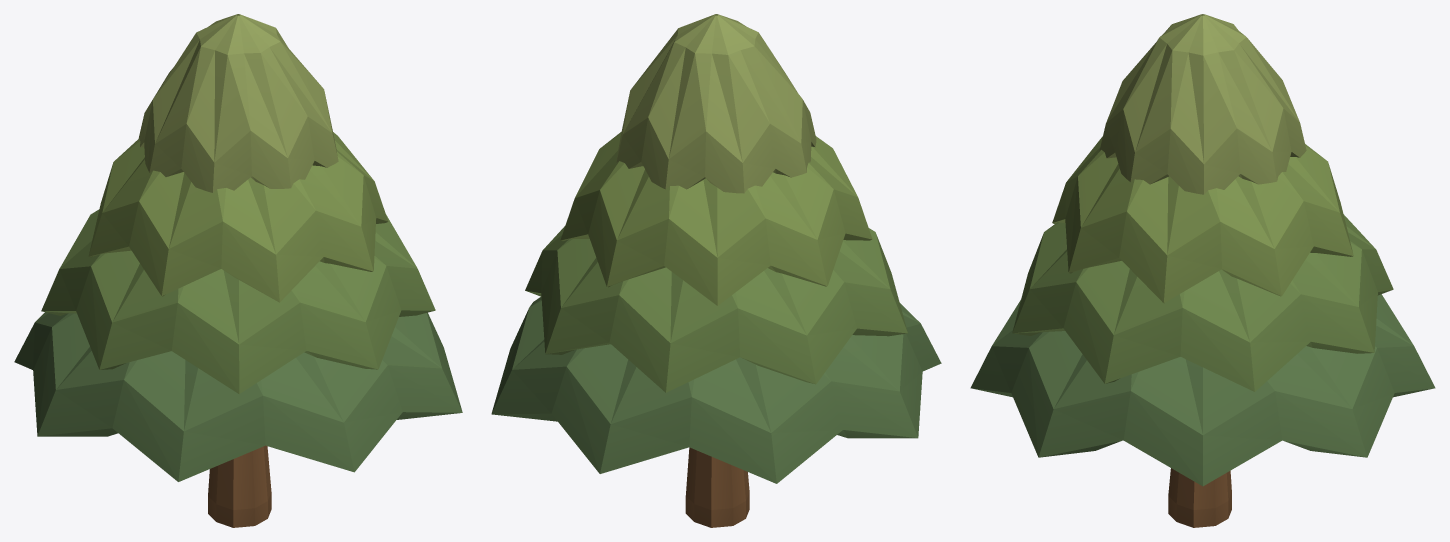
The model's file is Spruce.glb.
3 views of the same model, side by side, from view 1: azimuth 30°, elevation 25°; view 2: azimuth 150°, elevation 25°; view 3: azimuth 270°, elevation 25° (orthographic).
Parts seen in each view (by area): view 1: Crown, Stump; view 2: Crown, Stump; view 3: Crown, Stump.
Boxes of the visible parts, x1,y1,x2,y2 form: Crown: [14, 14, 462, 481]; Stump: [208, 445, 271, 527]; Crown: [491, 14, 941, 483]; Stump: [685, 447, 749, 527]; Crown: [970, 14, 1435, 486]; Stump: [1168, 468, 1231, 527].
Bounding box in the file's own units: 3.07 × 3.63 × 3.07.
